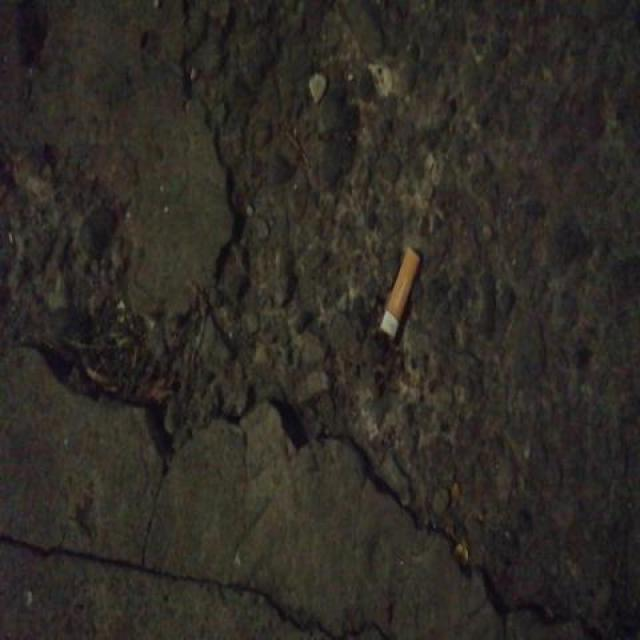non-organic waste: (374, 240, 423, 345)
